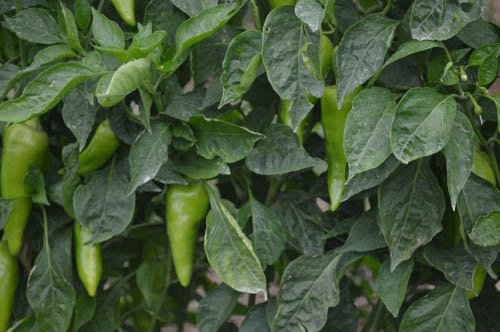ChiliPepper: (4, 125, 51, 253), (320, 87, 362, 212), (280, 40, 328, 149), (165, 182, 211, 289), (80, 120, 121, 176), (74, 222, 103, 297)
